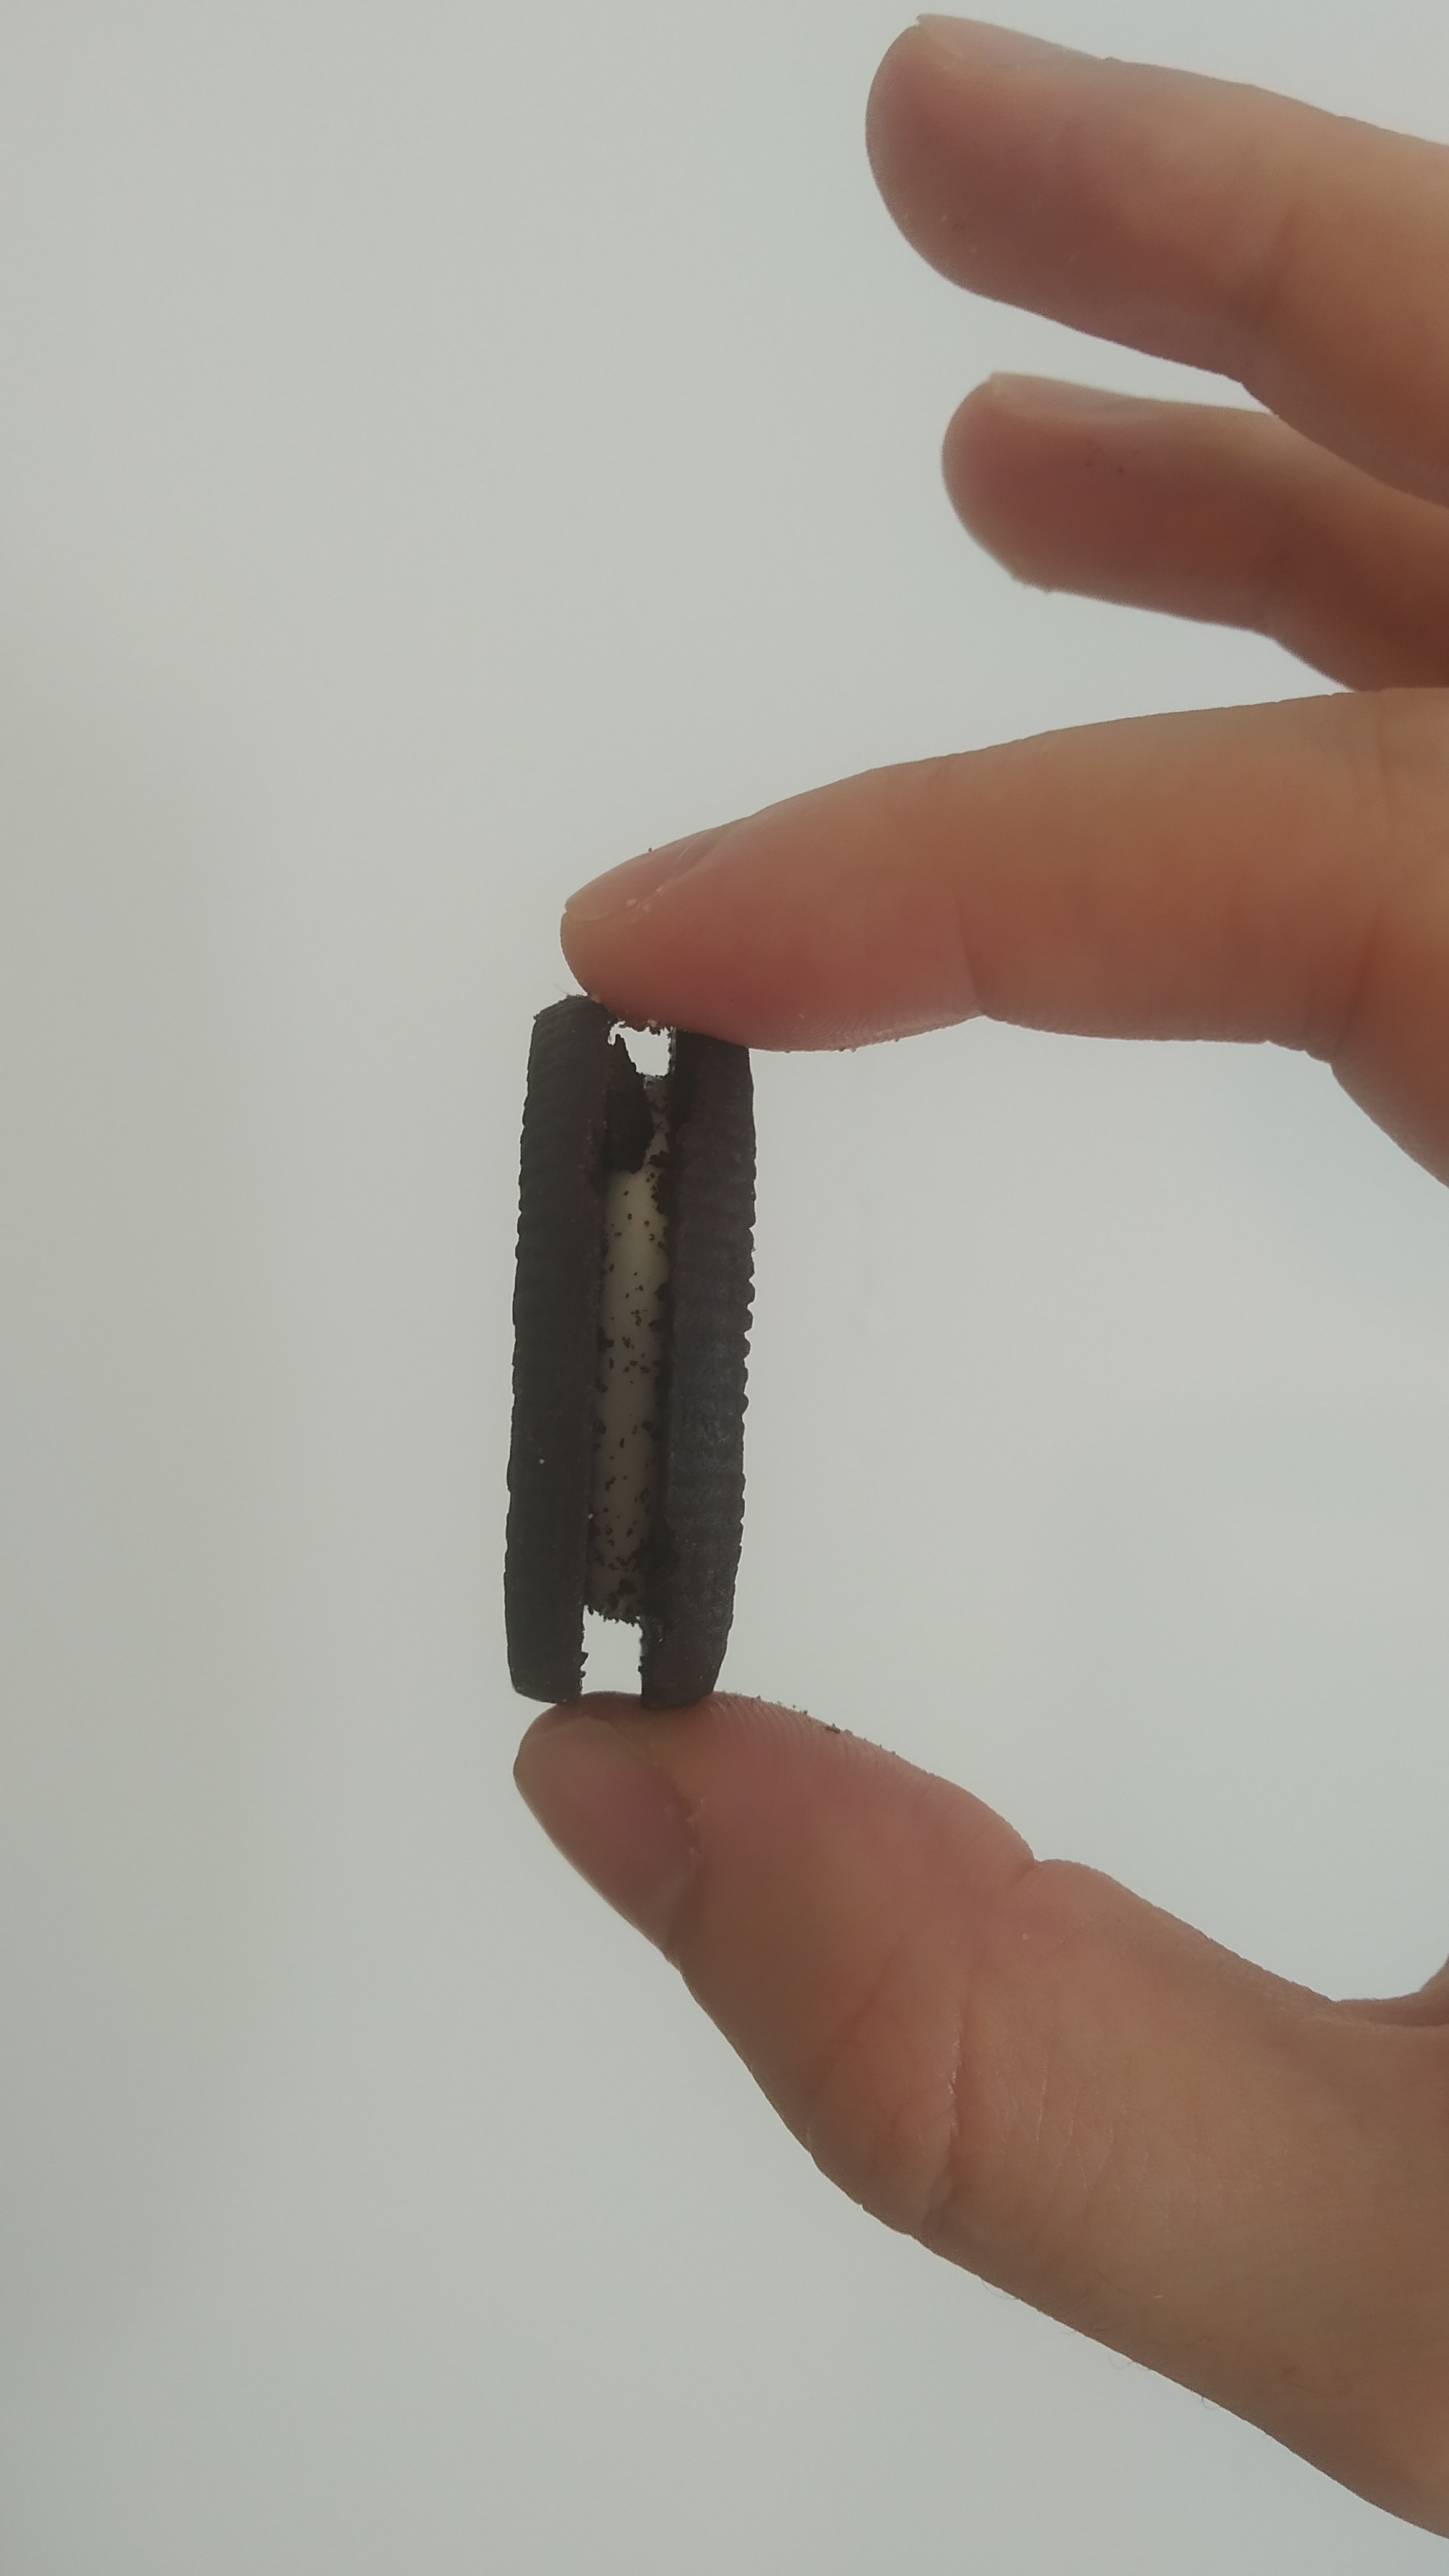oreo: (501, 987, 757, 1716)
